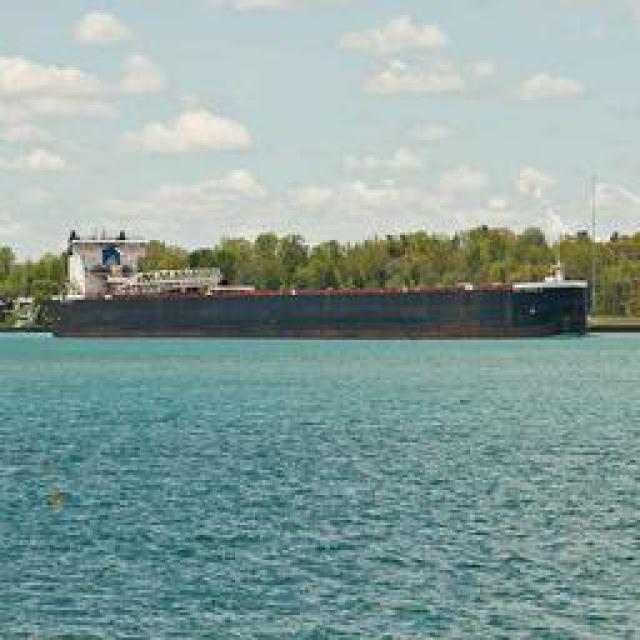Ship: (55, 244, 580, 339)
